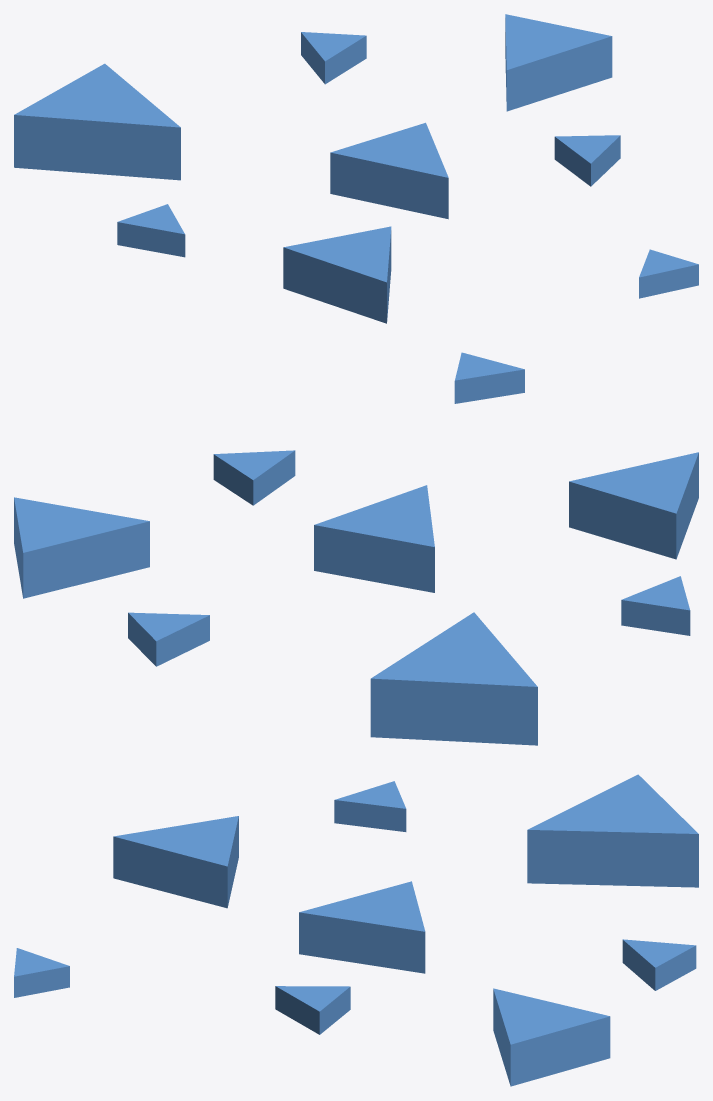
Rendered from mirror_shards.fbx.
The picture shows the model from 3 angles, top to bottom: view 1: azimuth 30°, elevation 25°; view 2: azimuth 150°, elevation 25°; view 3: azimuth 270°, elevation 25°; orthographic projection. The views are drawn at different scales.
Visible parts, largest first — view 1: Mirror.Shards; view 2: Mirror.Shards; view 3: Mirror.Shards.
Part boxes in pixels (x1,y1,x2,y2): Mirror.Shards: (14,14,698,323); Mirror.Shards: (14,352,698,745); Mirror.Shards: (14,774,698,1086).
Bounding box in the file's own units: 82.03 × 7.5 × 86.96.
